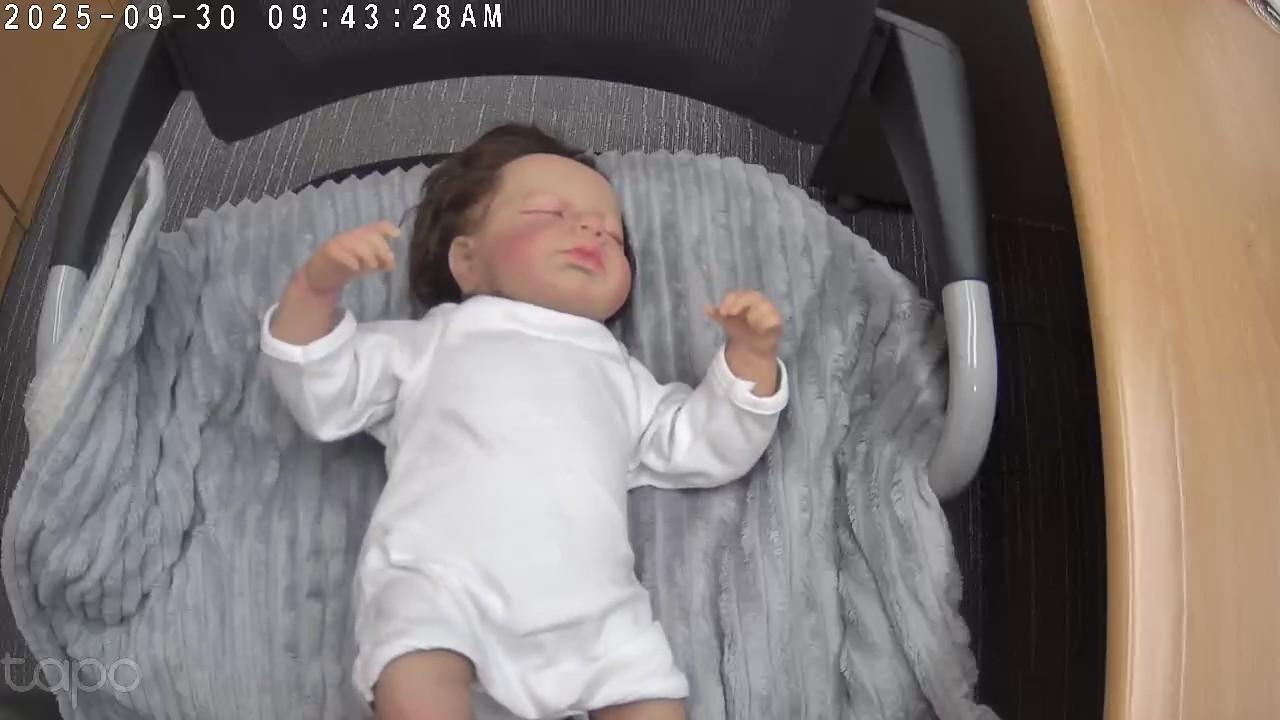hand: (304, 218, 407, 285), (705, 290, 781, 355)
